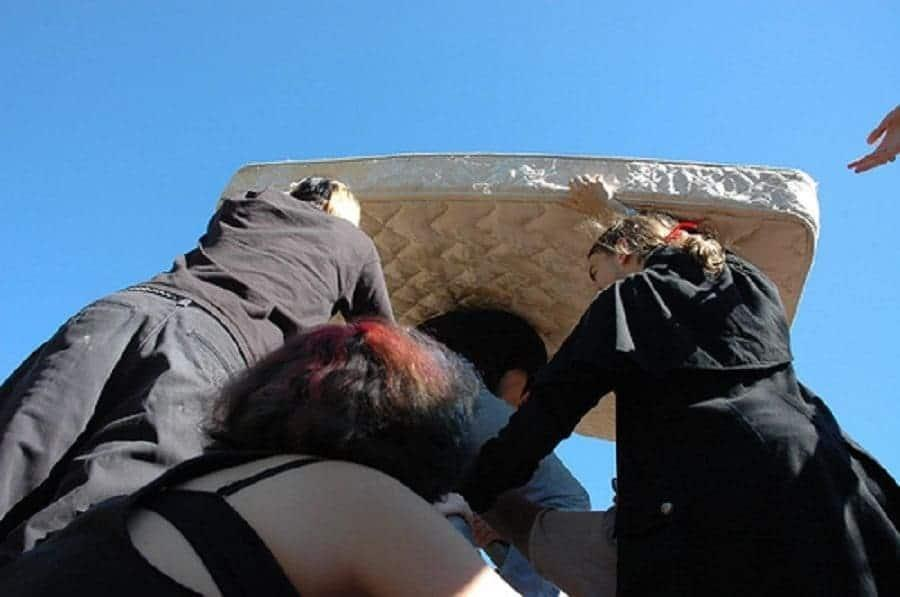Bed-Mattress: (199, 139, 834, 449)
